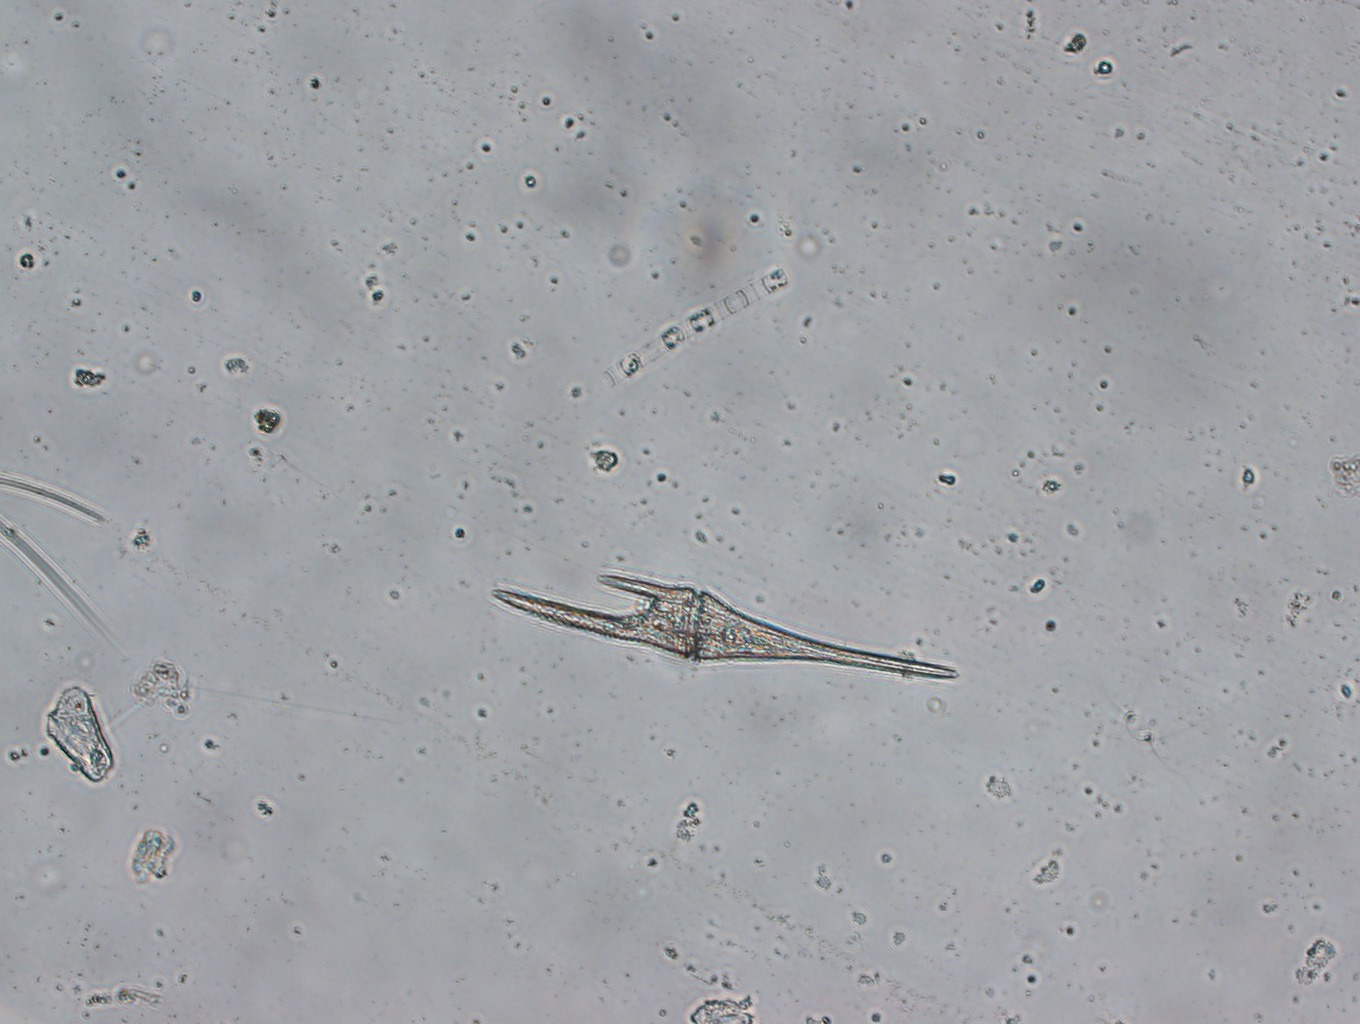ceratium furca: (490, 572, 961, 683)
skeletonema: (596, 268, 793, 392)
